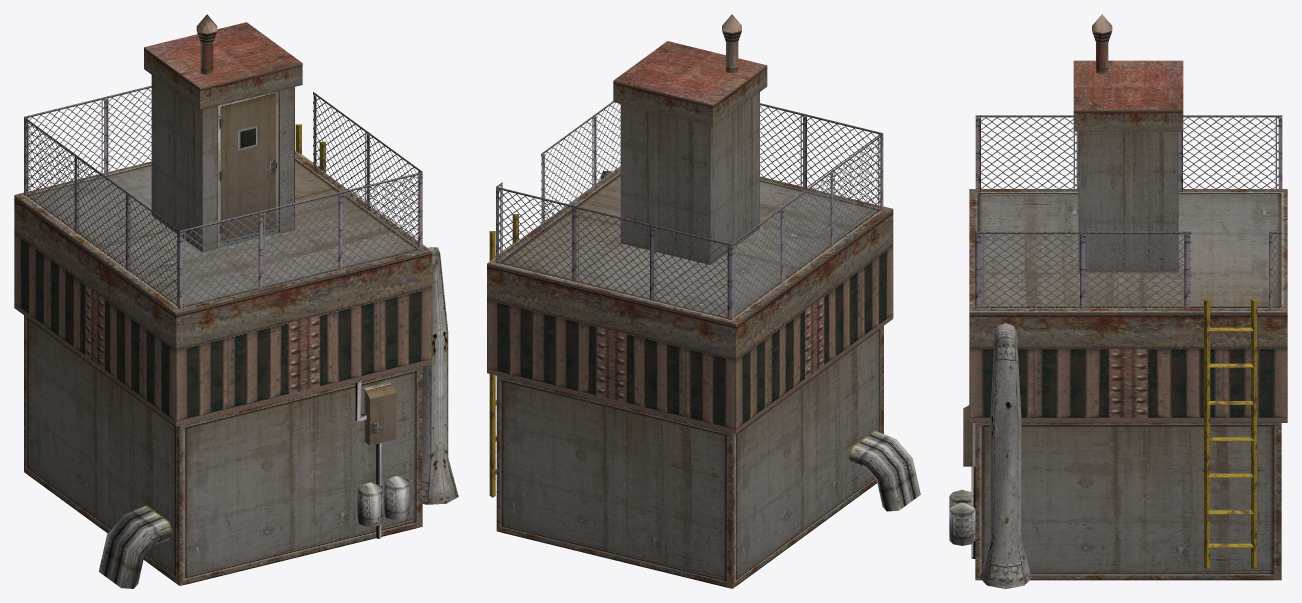
Rendered from OPLT07.glb.
3 renders of one model, left to right at view 1: azimuth 30°, elevation 25°; view 2: azimuth 150°, elevation 25°; view 3: azimuth 270°, elevation 25°, orthographic. The views are drawn at different scales.
Visible parts, largest first — view 1: _OPLT07; view 2: _OPLT07; view 3: _OPLT07.
Part boxes in pixels (x1,y1,x2,y2): _OPLT07: [14, 14, 458, 588]; _OPLT07: [487, 14, 920, 588]; _OPLT07: [949, 14, 1287, 588].
Size of the model in its own units: 6.3 by 8.89 by 5.53.
Materials: 3 (3 with a texture image).
